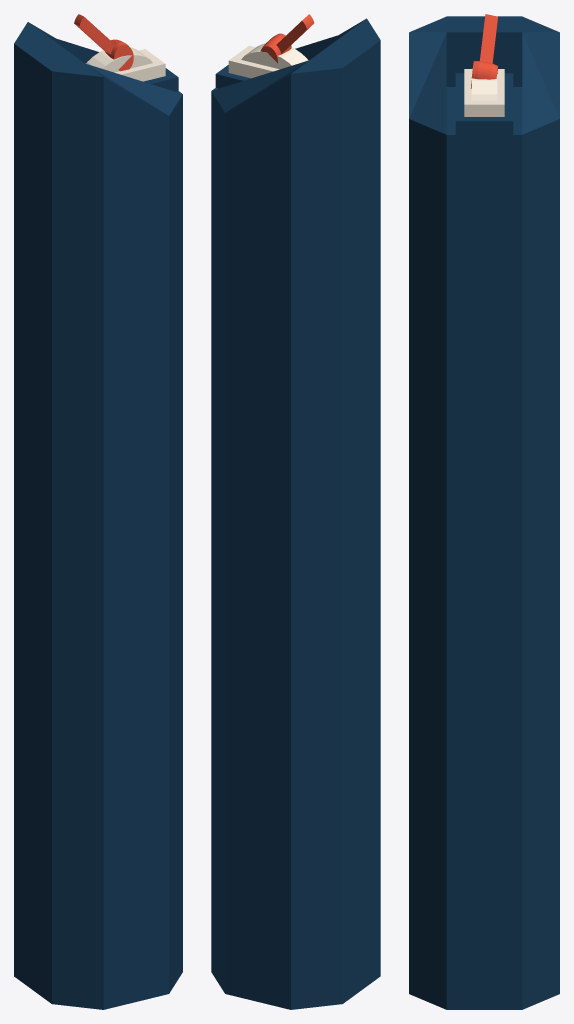
The model's file is Interactionpoint-Lever.fbx.
The picture shows the model from 3 angles, left to right: view 1: azimuth 30°, elevation 25°; view 2: azimuth 150°, elevation 25°; view 3: azimuth 270°, elevation 25°; orthographic projection.
Parts seen in each view (by area): view 1: Cube, Cube.002, Cylinder; view 2: Cube, Cube.002, Cylinder; view 3: Cube, Cube.002, Cylinder.
Boxes of the visible parts, x1=… form: Cube: x1=14, y1=22, x2=182, y2=1009; Cube.002: x1=86, y1=47, x2=165, y2=81; Cylinder: x1=74, y1=14, x2=133, y2=71; Cube: x1=211, y1=18, x2=380, y2=1009; Cube.002: x1=228, y1=43, x2=308, y2=78; Cylinder: x1=260, y1=14, x2=314, y2=63; Cube: x1=409, y1=16, x2=559, y2=1009; Cube.002: x1=464, y1=68, x2=504, y2=116; Cylinder: x1=470, y1=14, x2=498, y2=88.
Bounding box in the file's own units: 100 × 700 × 100.
